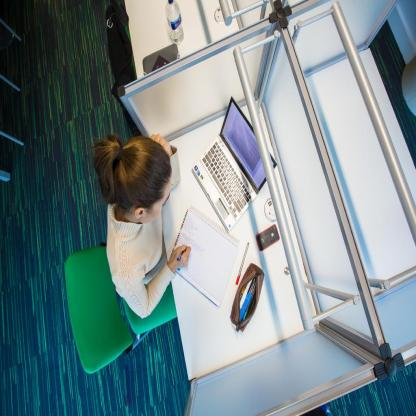board: (193, 93, 276, 235), (166, 0, 186, 43)
